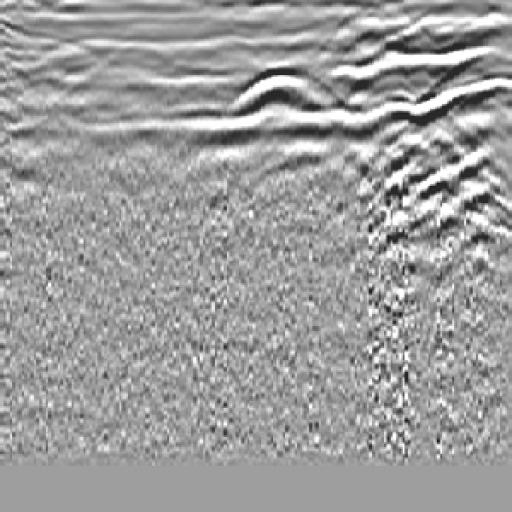metalic: (217, 62, 350, 124)
non-metallic: (353, 28, 512, 267)
